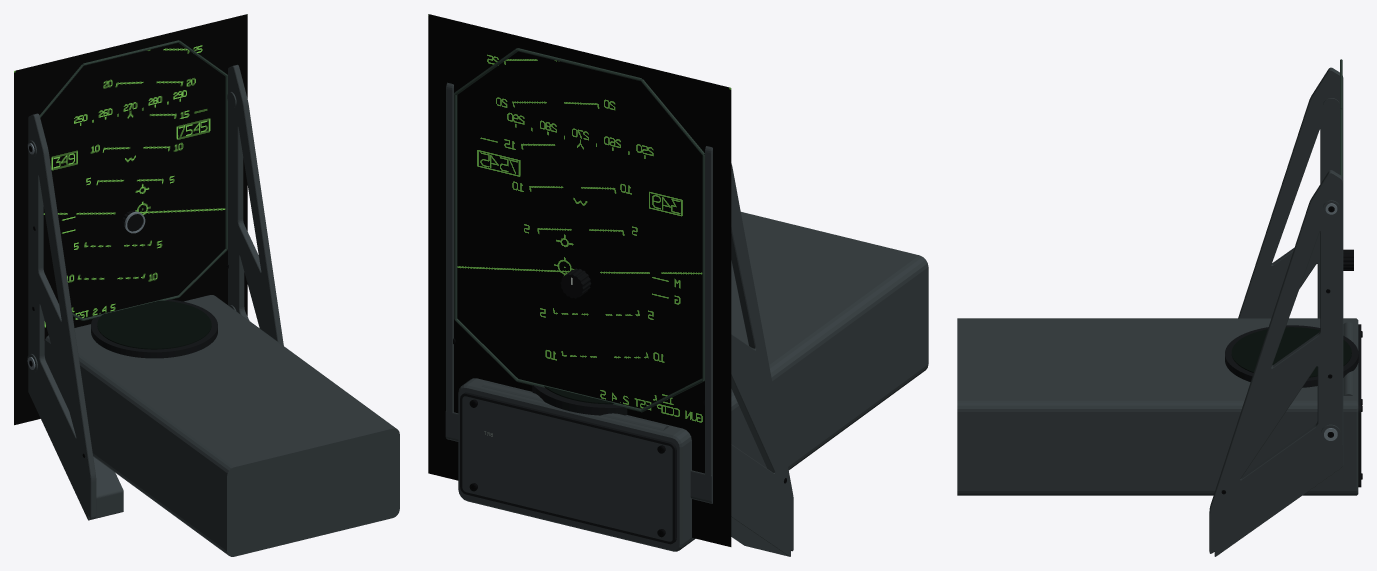
The model's file is MFDStudio.obj.
3 renders of one model, left to right at view 1: azimuth 30°, elevation 25°; view 2: azimuth 150°, elevation 25°; view 3: azimuth 270°, elevation 25°, orthographic. The views are drawn at different scales.
Parts seen in each view (by area): view 1: MFDStudioBody, MFDStudioScreen, MFDStudioCombinerFrame; view 2: MFDStudioScreen, MFDStudioBody, MFDStudioCombinerFrame, MFDStudioKnob0; view 3: MFDStudioBody, MFDStudioCombinerFrame.
Part boxes in pixels (left/top/right/bottom): MFDStudioBody: left=44, top=295, right=399, bottom=556; MFDStudioScreen: left=14, top=14, right=247, bottom=425; MFDStudioCombinerFrame: left=27, top=40, right=283, bottom=520; MFDStudioScreen: left=428, top=14, right=731, bottom=546; MFDStudioBody: left=458, top=212, right=928, bottom=551; MFDStudioCombinerFrame: left=445, top=48, right=793, bottom=556; MFDStudioKnob0: left=560, top=268, right=591, bottom=298; MFDStudioBody: left=957, top=318, right=1361, bottom=495; MFDStudioCombinerFrame: left=1209, top=59, right=1343, bottom=556.
Size of the model in its own units: 0.2 by 0.3348 by 0.2858.
11 materials, 1 textured.
